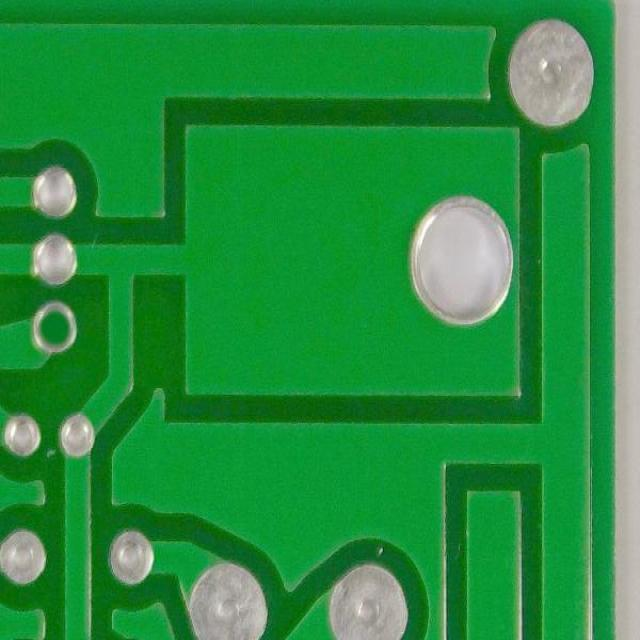missing hole: (22, 292, 84, 359)
